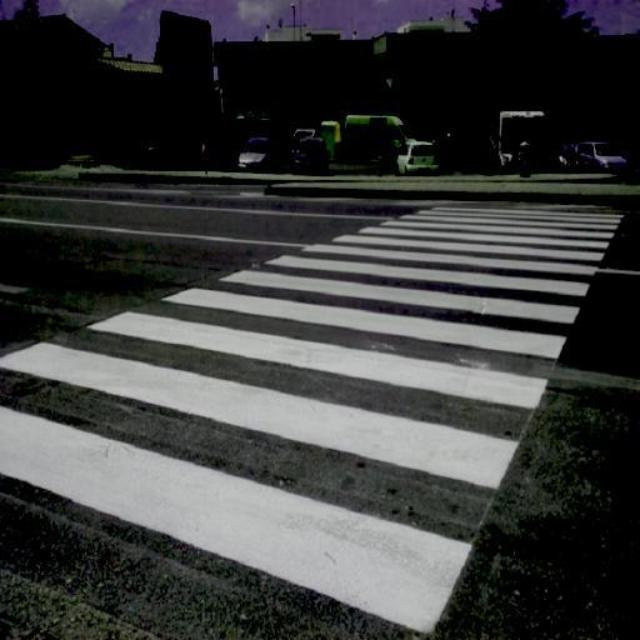sidewalk: (0, 198, 628, 633)
